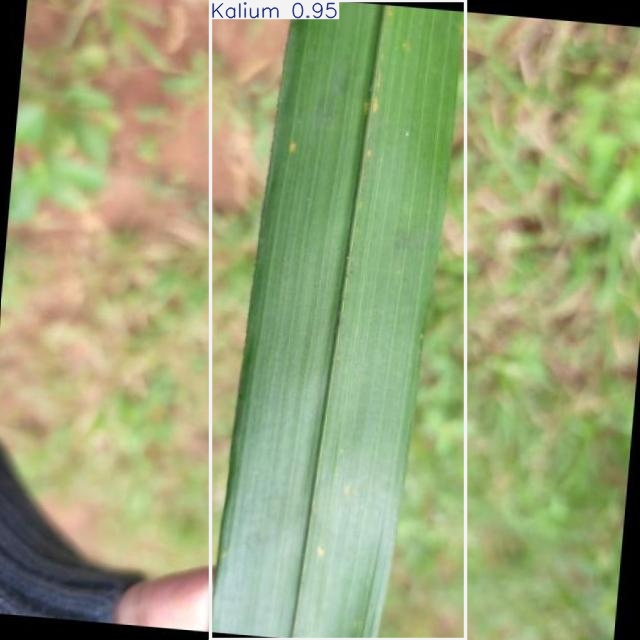Kalium: (211, 0, 466, 640)
